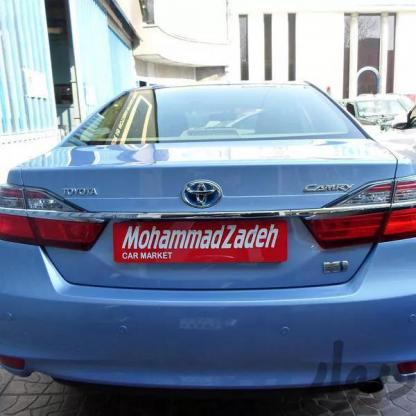Car: (0, 68, 416, 416)
